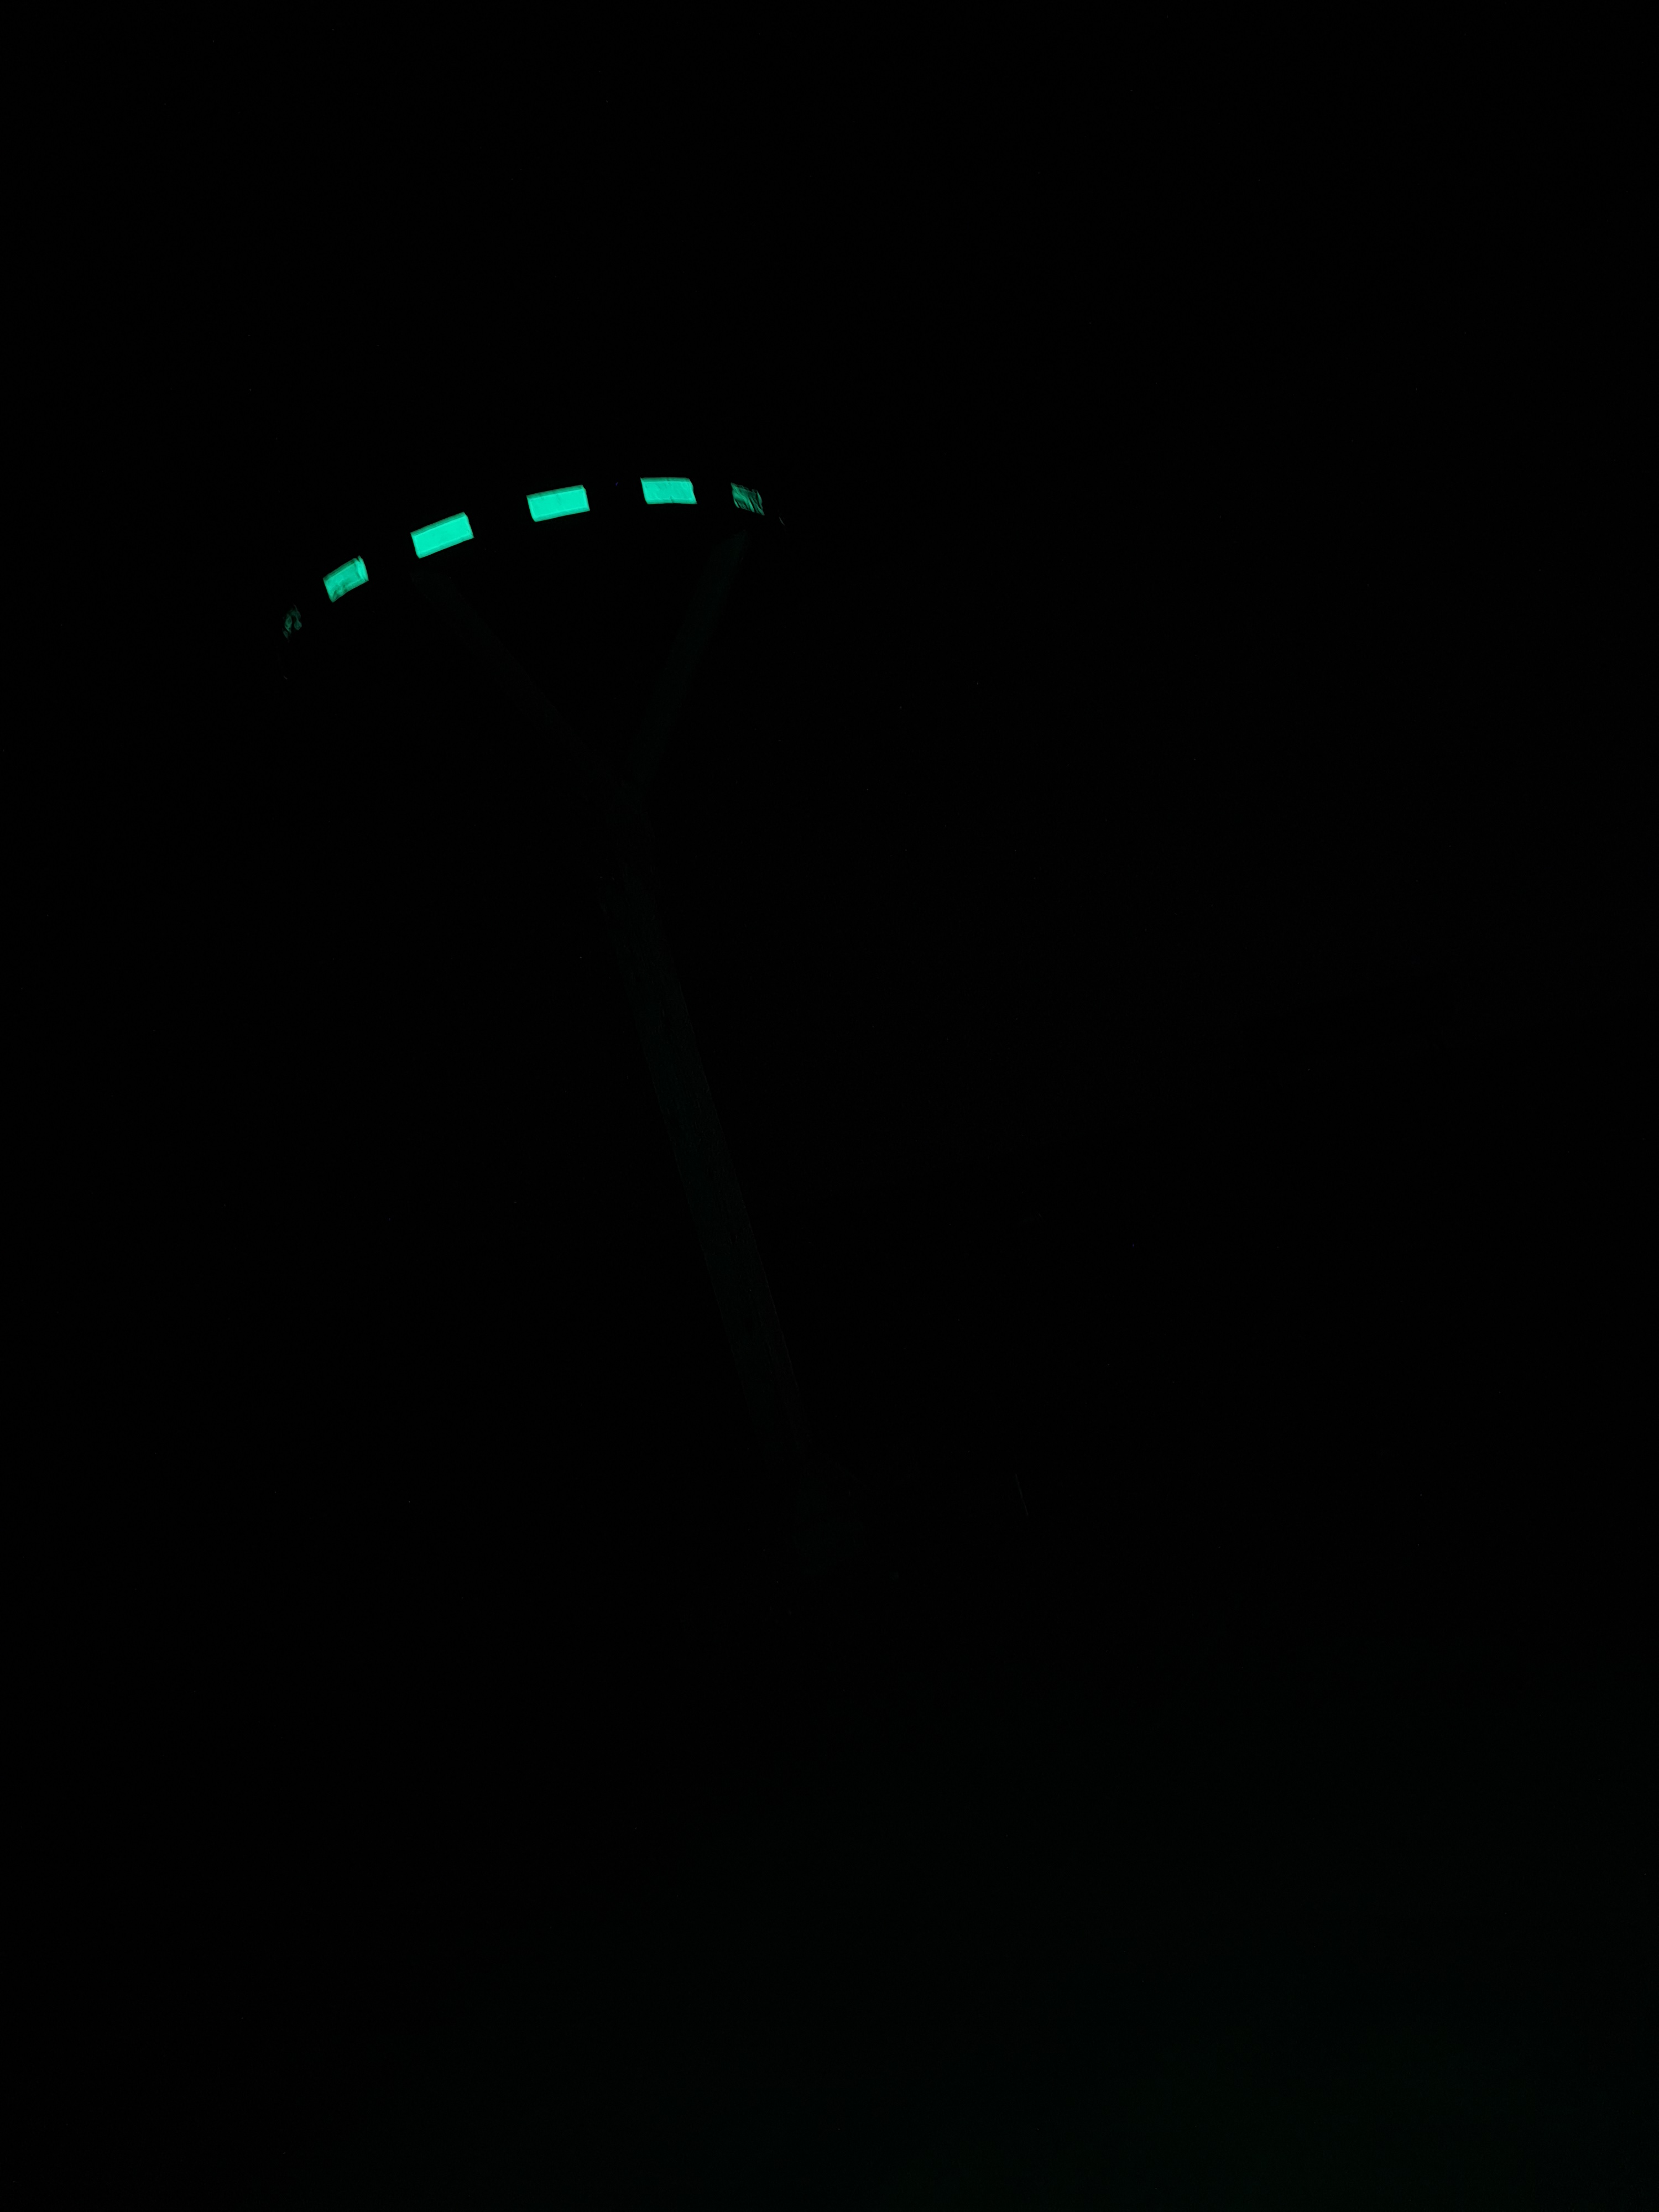hoop: (246, 453, 772, 646)
